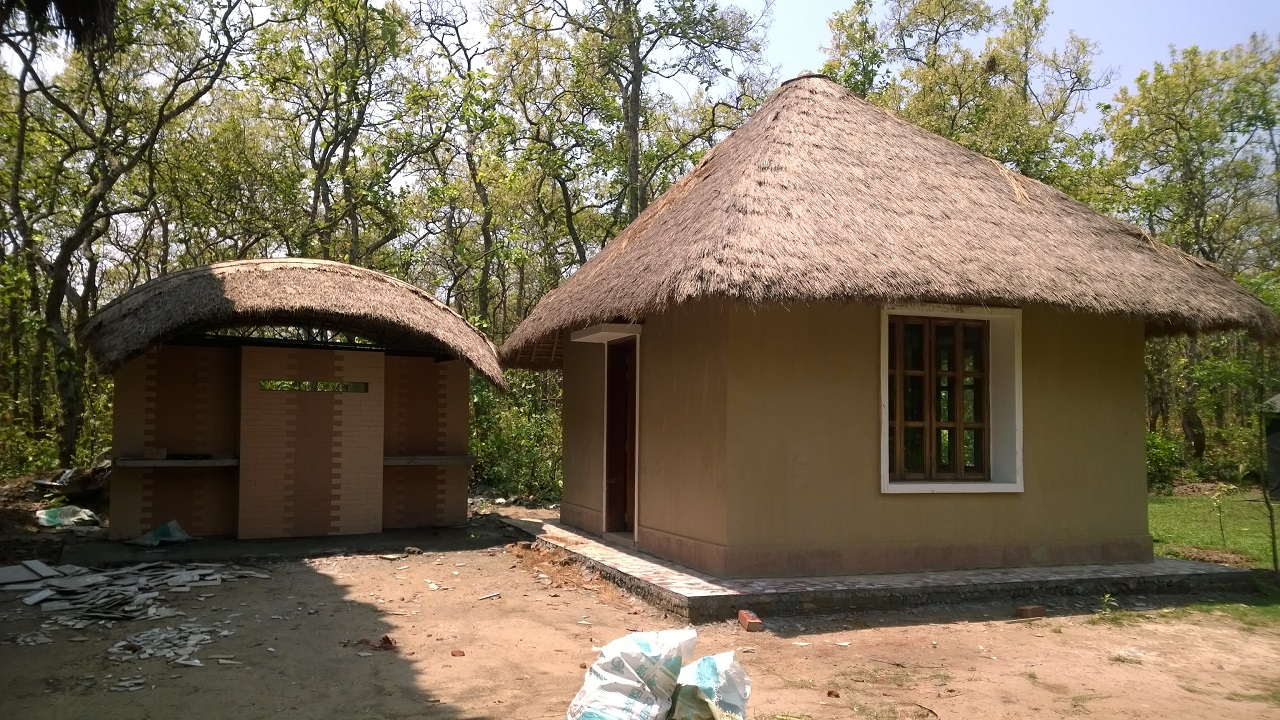Mud House: (520, 77, 1211, 616)
